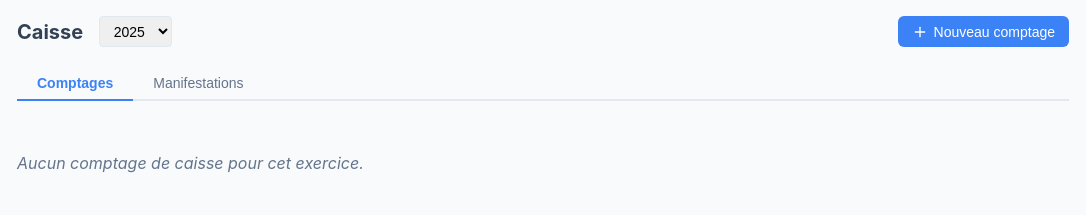
it: CaissePage — onglet Manifestations › l'onglet Manifestations affiche la liste des sessions
Click the tab "Manifestations". click: point(198, 84)
box: [133,67,264,101]
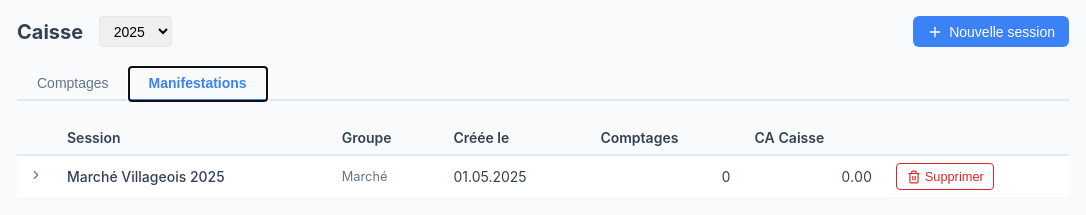
Expected: the text "Marché Villageois 2025" is shown, [55,155,330,198]
Expected: the text "Marché" is shown, [330,155,441,198]
